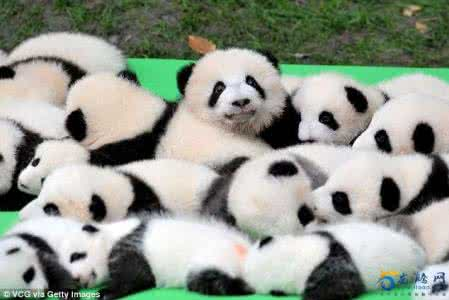panda: (68, 221, 253, 295), (174, 44, 297, 142), (19, 161, 220, 220), (307, 157, 448, 230), (63, 65, 170, 160), (230, 154, 317, 244), (291, 62, 377, 152), (352, 85, 445, 157), (1, 217, 61, 295), (22, 136, 93, 197)
